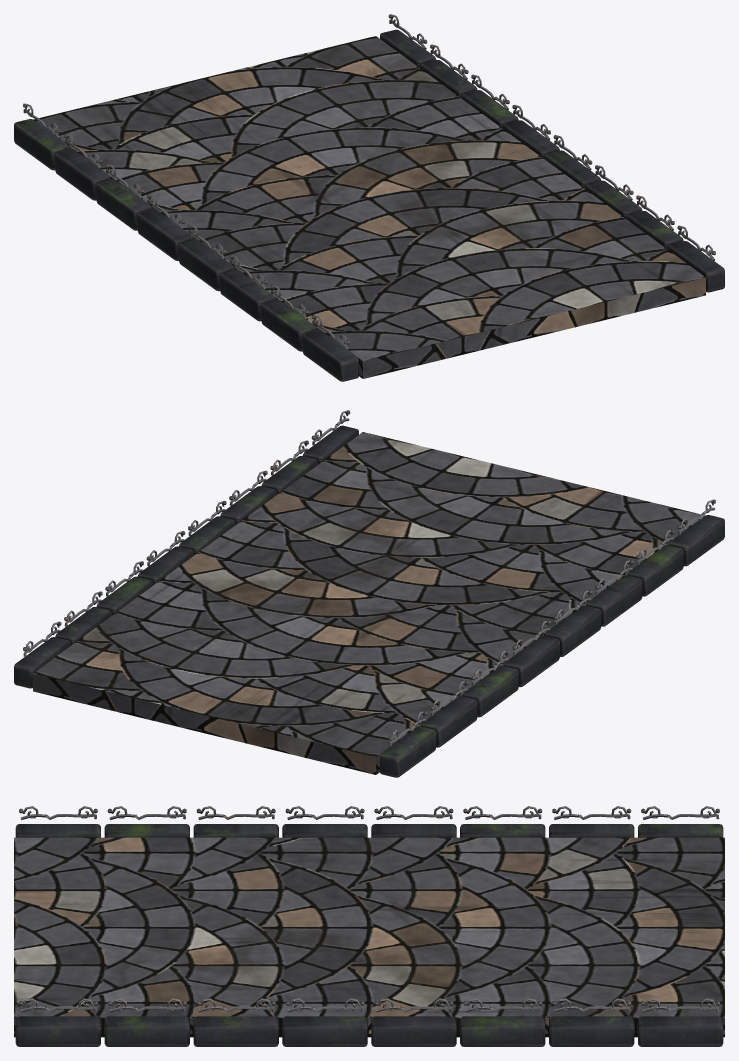
The model's file is PathCobble.fbx.
3 renders of one model, top to bottom at view 1: azimuth 30°, elevation 25°; view 2: azimuth 150°, elevation 25°; view 3: azimuth 270°, elevation 25°, orthographic. The views are drawn at different scales.
Parts seen in each view (by area): view 1: PathCobble_Path, PathCobble_Main; view 2: PathCobble_Path, PathCobble_Main; view 3: PathCobble_Path, PathCobble_Main.
Part boxes in pixels (<box>): PathCobble_Path: <box>33,36,705,378</box>; PathCobble_Main: <box>14,14,724,381</box>; PathCobble_Path: <box>33,432,705,774</box>; PathCobble_Main: <box>14,410,724,777</box>; PathCobble_Path: <box>14,837,724,1037</box>; PathCobble_Main: <box>15,806,723,1046</box>.
Size of the model in its own units: 674 by 69.72 by 1000.
